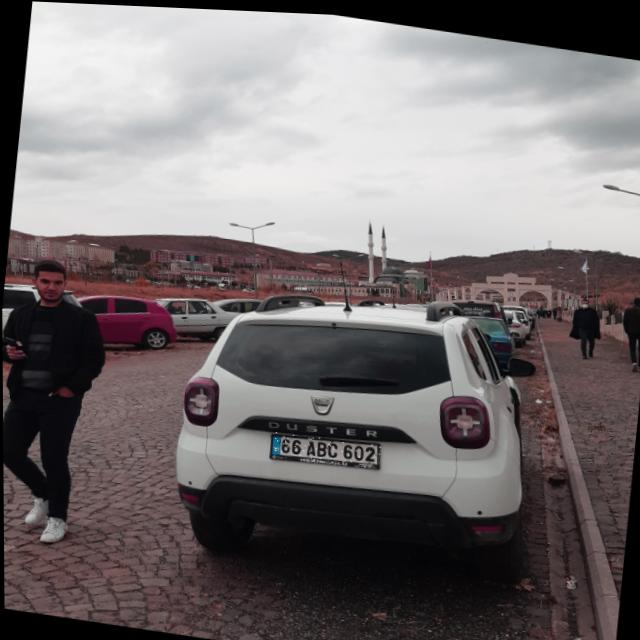license_plate: (269, 427, 380, 467)
